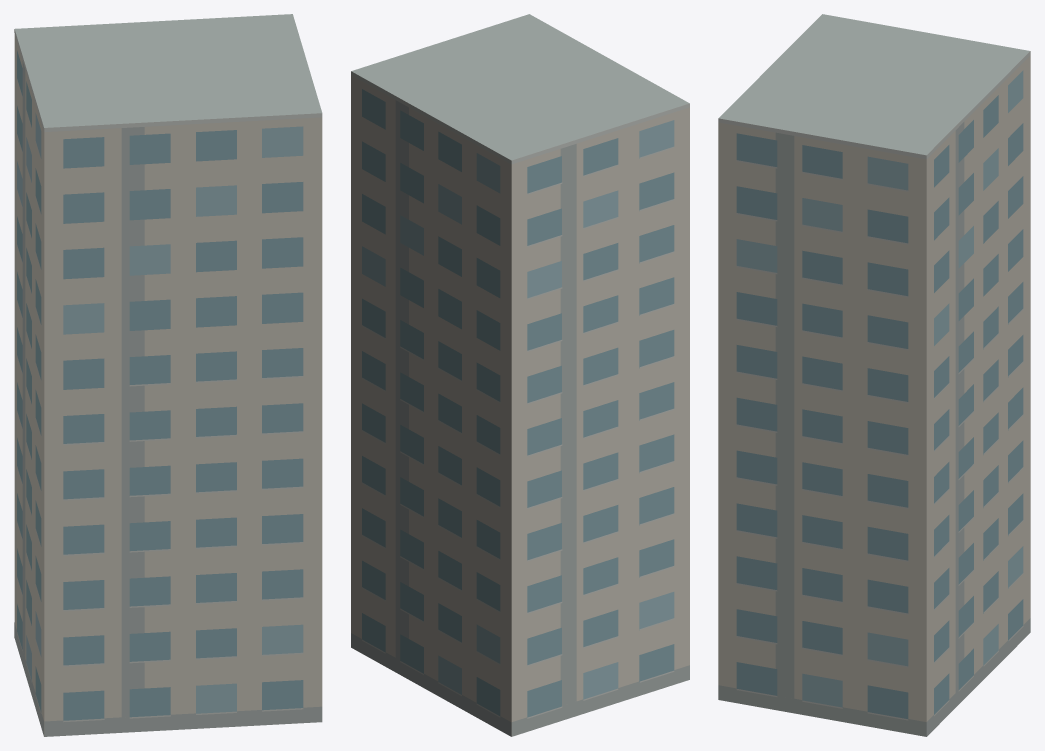
File: residential-763a23df-6c88-4e7a-bfc8-396e7ddff00f.glb
3 views of the same model, side by side, from view 1: azimuth 30°, elevation 25°; view 2: azimuth 150°, elevation 25°; view 3: azimuth 270°, elevation 25° (orthographic). The views are drawn at different scales.
Visible parts, largest first — view 1: residential-763a23df-6c88-4e7a-bfc8-396e7ddff00f.tmp; view 2: residential-763a23df-6c88-4e7a-bfc8-396e7ddff00f.tmp; view 3: residential-763a23df-6c88-4e7a-bfc8-396e7ddff00f.tmp.
Part boxes in pixels (x1,y1,x2,y2): residential-763a23df-6c88-4e7a-bfc8-396e7ddff00f.tmp: (14, 14, 322, 736); residential-763a23df-6c88-4e7a-bfc8-396e7ddff00f.tmp: (351, 14, 689, 736); residential-763a23df-6c88-4e7a-bfc8-396e7ddff00f.tmp: (718, 14, 1030, 736).
Bounding box in the file's own units: 18.25 × 35 × 17.03.
